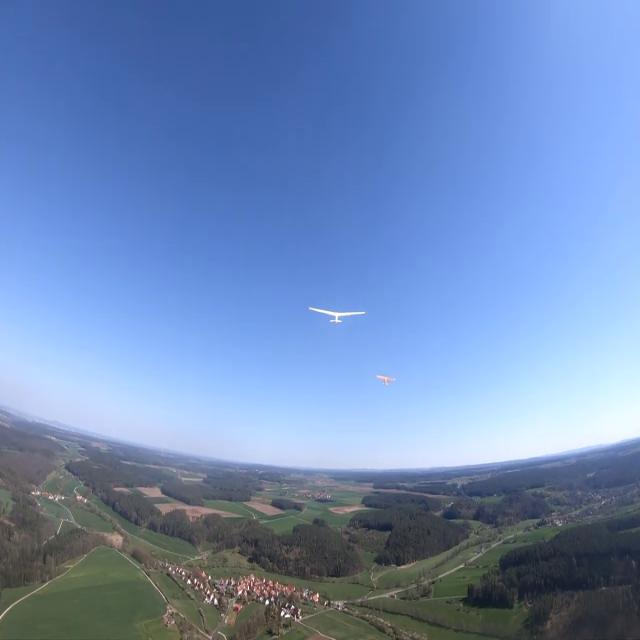iha: (309, 303, 365, 328), (376, 372, 399, 388)
